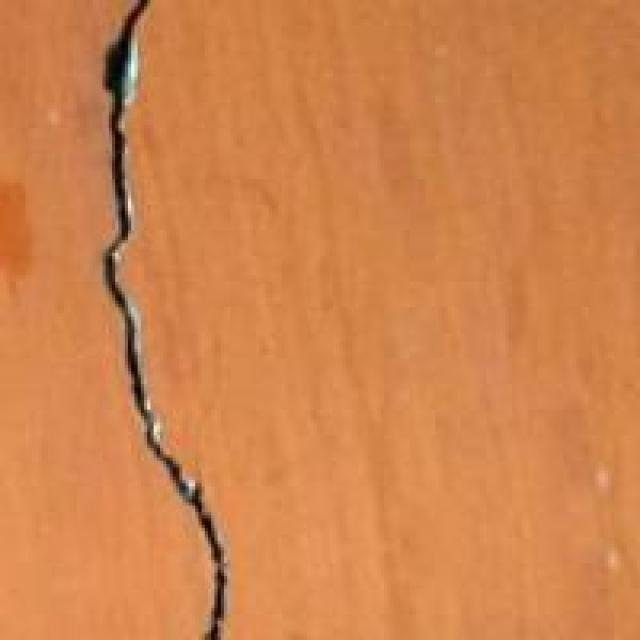crack: (16, 0, 288, 637)
